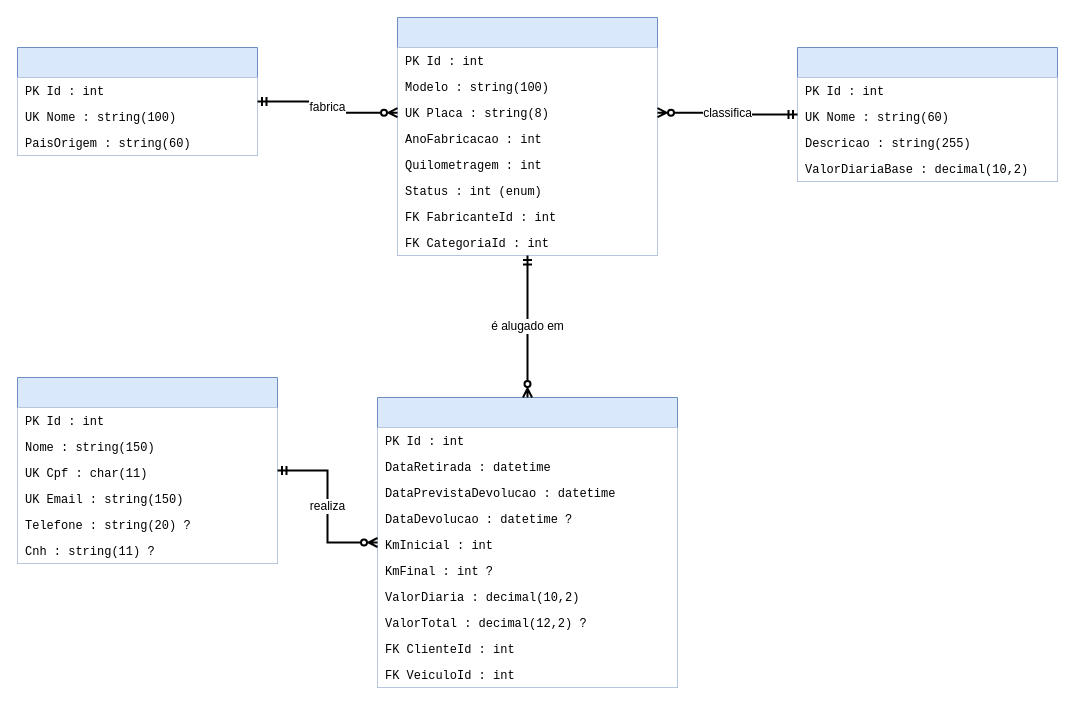
Some shapes in this 1075 by 705 pixel diagram are drawn without their labels. Here are the shapes that lost their labels. From the top down, the box of each, then its label:
(16, 46, 258, 156): FABRICANTE
(796, 46, 1058, 182): CATEGORIA
(396, 16, 658, 256): VEICULO
(16, 376, 278, 564): CLIENTE
(376, 396, 678, 688): ALUGUEL
